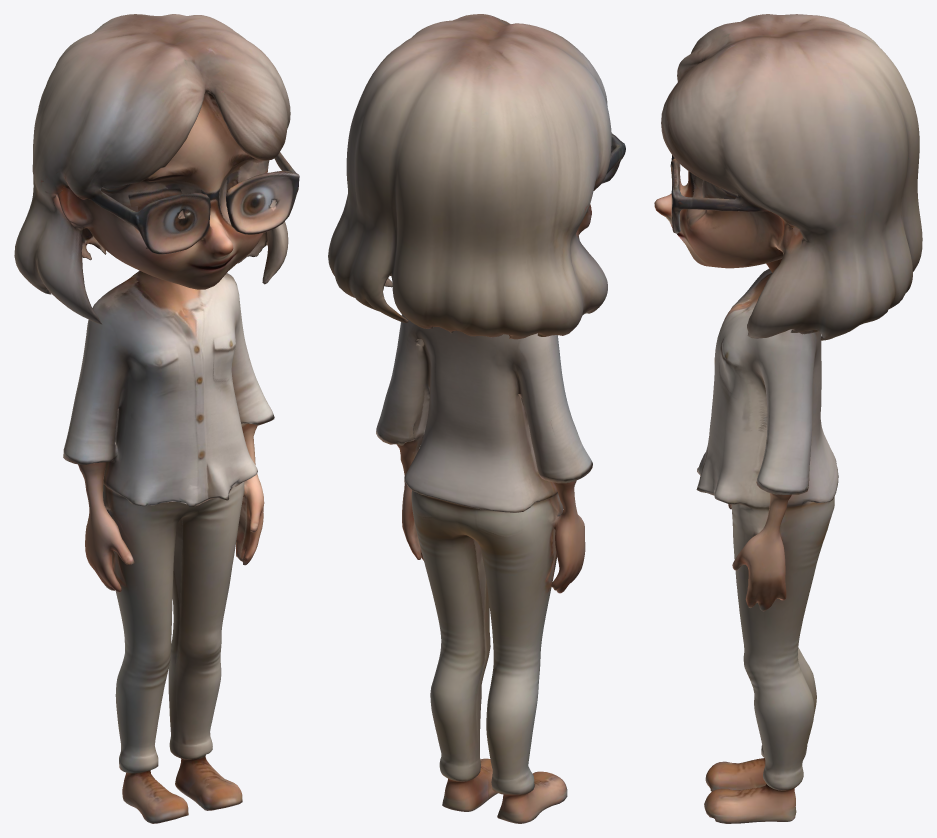
File: tranquila.obj
3 renders of one model, left to right at view 1: azimuth 30°, elevation 25°; view 2: azimuth 150°, elevation 25°; view 3: azimuth 270°, elevation 25°, orthographic. The views are drawn at different scales.
Parts seen in each view (by area): view 1: Mesh_0; view 2: Mesh_0; view 3: Mesh_0.
Boxes of the visible parts, box(x1,y1,x2,y2) form: Mesh_0: box(14, 14, 299, 823); Mesh_0: box(328, 14, 625, 823); Mesh_0: box(654, 14, 922, 823).
Size of the model in its own units: 0.6632 by 2 by 0.6286.
Materials: 1 (1 with a texture image).
